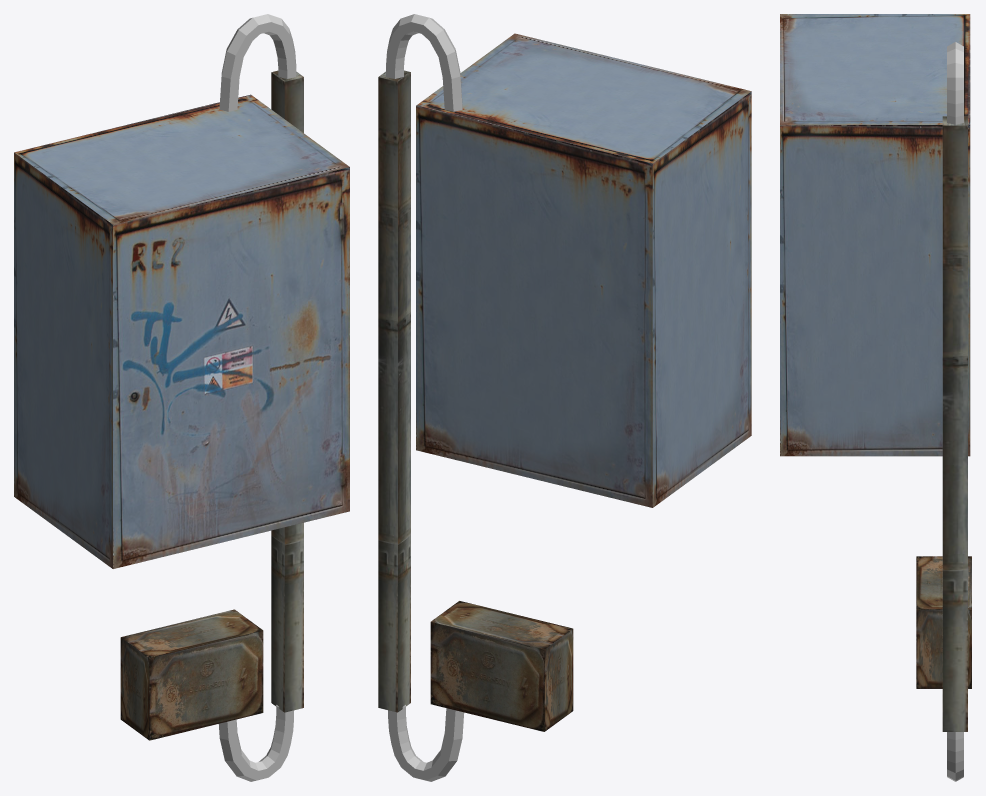
The model's file is powerbox4ms3d.fbx.
The picture shows the model from 3 angles, left to right: view 1: azimuth 30°, elevation 25°; view 2: azimuth 150°, elevation 25°; view 3: azimuth 270°, elevation 25°; orthographic projection. The views are drawn at different scales.
Parts seen in each view (by area): view 1: pb4front0, pb4sides0, Box0, Boxa0, Cylinder0, Duplicate0; view 2: pb4sides0, Boxa0, Box0, Cylinder0, Duplicate0; view 3: pb4sides0, Boxa0, Box0, Cylinder0, Duplicate0.
Boxes of the visible parts, x1,y1,x2,y2 form: pb4front0: (113,167,349,568); pb4sides0: (14,94,349,568); Box0: (120,609,263,740); Boxa0: (271,70,303,712); Cylinder0: (219,14,296,111); Duplicate0: (218,705,293,781); pb4sides0: (416,33,751,507); Boxa0: (378,70,410,712); Box0: (430,601,573,731); Cylinder0: (386,14,462,111); Duplicate0: (388,705,464,781); pb4sides0: (780,14,970,456); Boxa0: (942,116,967,731); Box0: (916,556,971,688); Cylinder0: (947,42,963,124); Duplicate0: (947,732,963,781).
Bounding box in the file's own units: 0.6721 × 1.78 × 0.4212.
